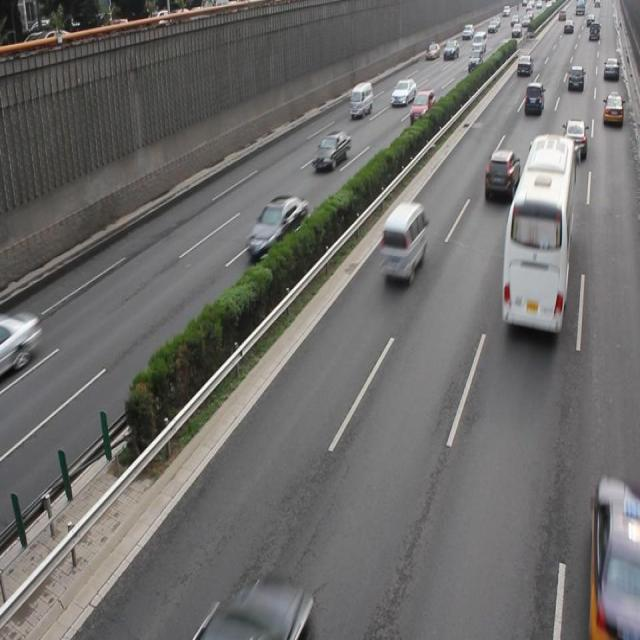car: (589, 475, 640, 640), (244, 192, 310, 262), (1, 306, 40, 379), (482, 148, 518, 203), (312, 129, 351, 171), (562, 119, 586, 161), (408, 88, 435, 125), (602, 92, 622, 126)
truck: (381, 203, 426, 282), (348, 80, 372, 119), (522, 81, 542, 117)
van: (499, 134, 574, 332)
